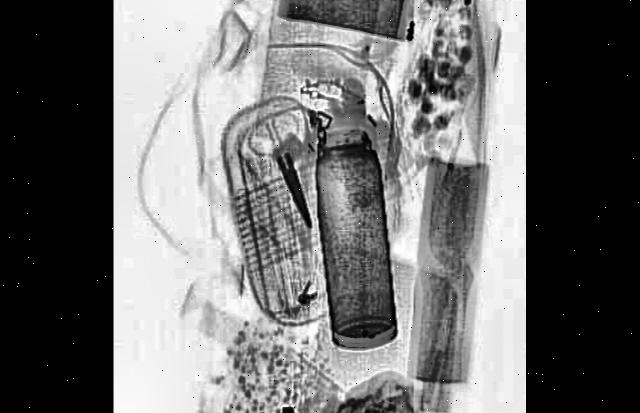Knife: (274, 142, 315, 230)
